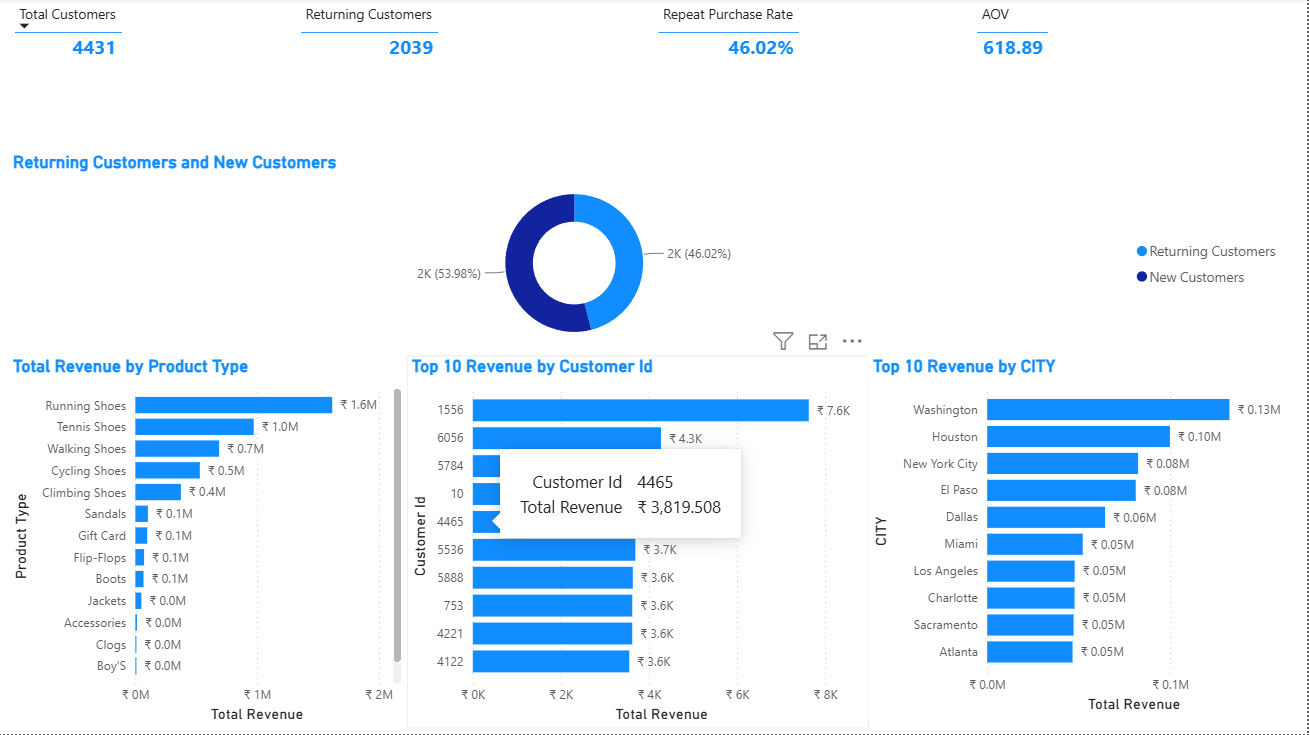

What the dashboard file says about the page in this screenshot:
{"tool":"powerbi","page":{"name":"Customer & Product Insights","canvas":[1280,720],"ordinal":1},"visuals":[{"type":"tableEx","fields":{"Values":["shopify_sales.Total Customers"]},"box":[9.6,0,279.9,150.9],"z":0},{"type":"tableEx","fields":{"Values":["shopify_sales.Returning Customers"]},"box":[289.5,0,349.9,150.9],"z":1000},{"type":"tableEx","fields":{"Values":["shopify_sales.Repeat Purchase Rate"]},"box":[639.5,0,304.6,150.9],"z":2000},{"type":"tableEx","fields":{"Values":["shopify_sales.AOV"]},"box":[951.4,0,328.6,151.4],"z":3000},{"type":"donutChart","fields":{"Y":["shopify_sales.Returning Customers","shopify_sales.New Customers"]},"box":[9.6,150.9,1254.2,199],"z":4000},{"type":"clusteredBarChart","title":"Top 10  Revenue by Customer Id","fields":{"Category":["shopify_sales.Customer Id"],"Y":["shopify_sales.Total Revenue"]},"box":[400,350,451.4,364.3],"z":5000},{"type":"clusteredBarChart","fields":{"Category":["shopify_sales.Product Type"],"Y":["shopify_sales.Total Revenue"]},"box":[10,350,390,364.3],"z":6001},{"type":"clusteredBarChart","title":"Top 10 Revenue by CITY","fields":{"Category":["shopify_sales.CITY"],"Y":["shopify_sales.Total Revenue"]},"box":[851.4,350,428.6,354.3],"z":6002}]}

Visuals, with their boxes in screenshot pixels (x1, y1, x2, y2), scaled from the page's 1280x720 canvas onto the 1310x735 screenshot:
tableEx - shopify_sales.Total Customers: left=10, top=0, right=296, bottom=154
tableEx - shopify_sales.Returning Customers: left=296, top=0, right=654, bottom=154
tableEx - shopify_sales.Repeat Purchase Rate: left=654, top=0, right=966, bottom=154
tableEx - shopify_sales.AOV: left=974, top=0, right=1309, bottom=155
donutChart - shopify_sales.Returning Customers x shopify_sales.New Customers: left=10, top=154, right=1293, bottom=357
"Top 10  Revenue by Customer Id" clusteredBarChart: left=409, top=357, right=871, bottom=729
clusteredBarChart - shopify_sales.Product Type x shopify_sales.Total Revenue: left=10, top=357, right=409, bottom=729
"Top 10 Revenue by CITY" clusteredBarChart: left=871, top=357, right=1309, bottom=719
